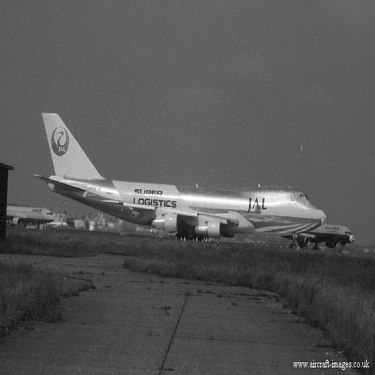airplane: (25, 96, 331, 259), (261, 205, 363, 258), (1, 192, 60, 232)
